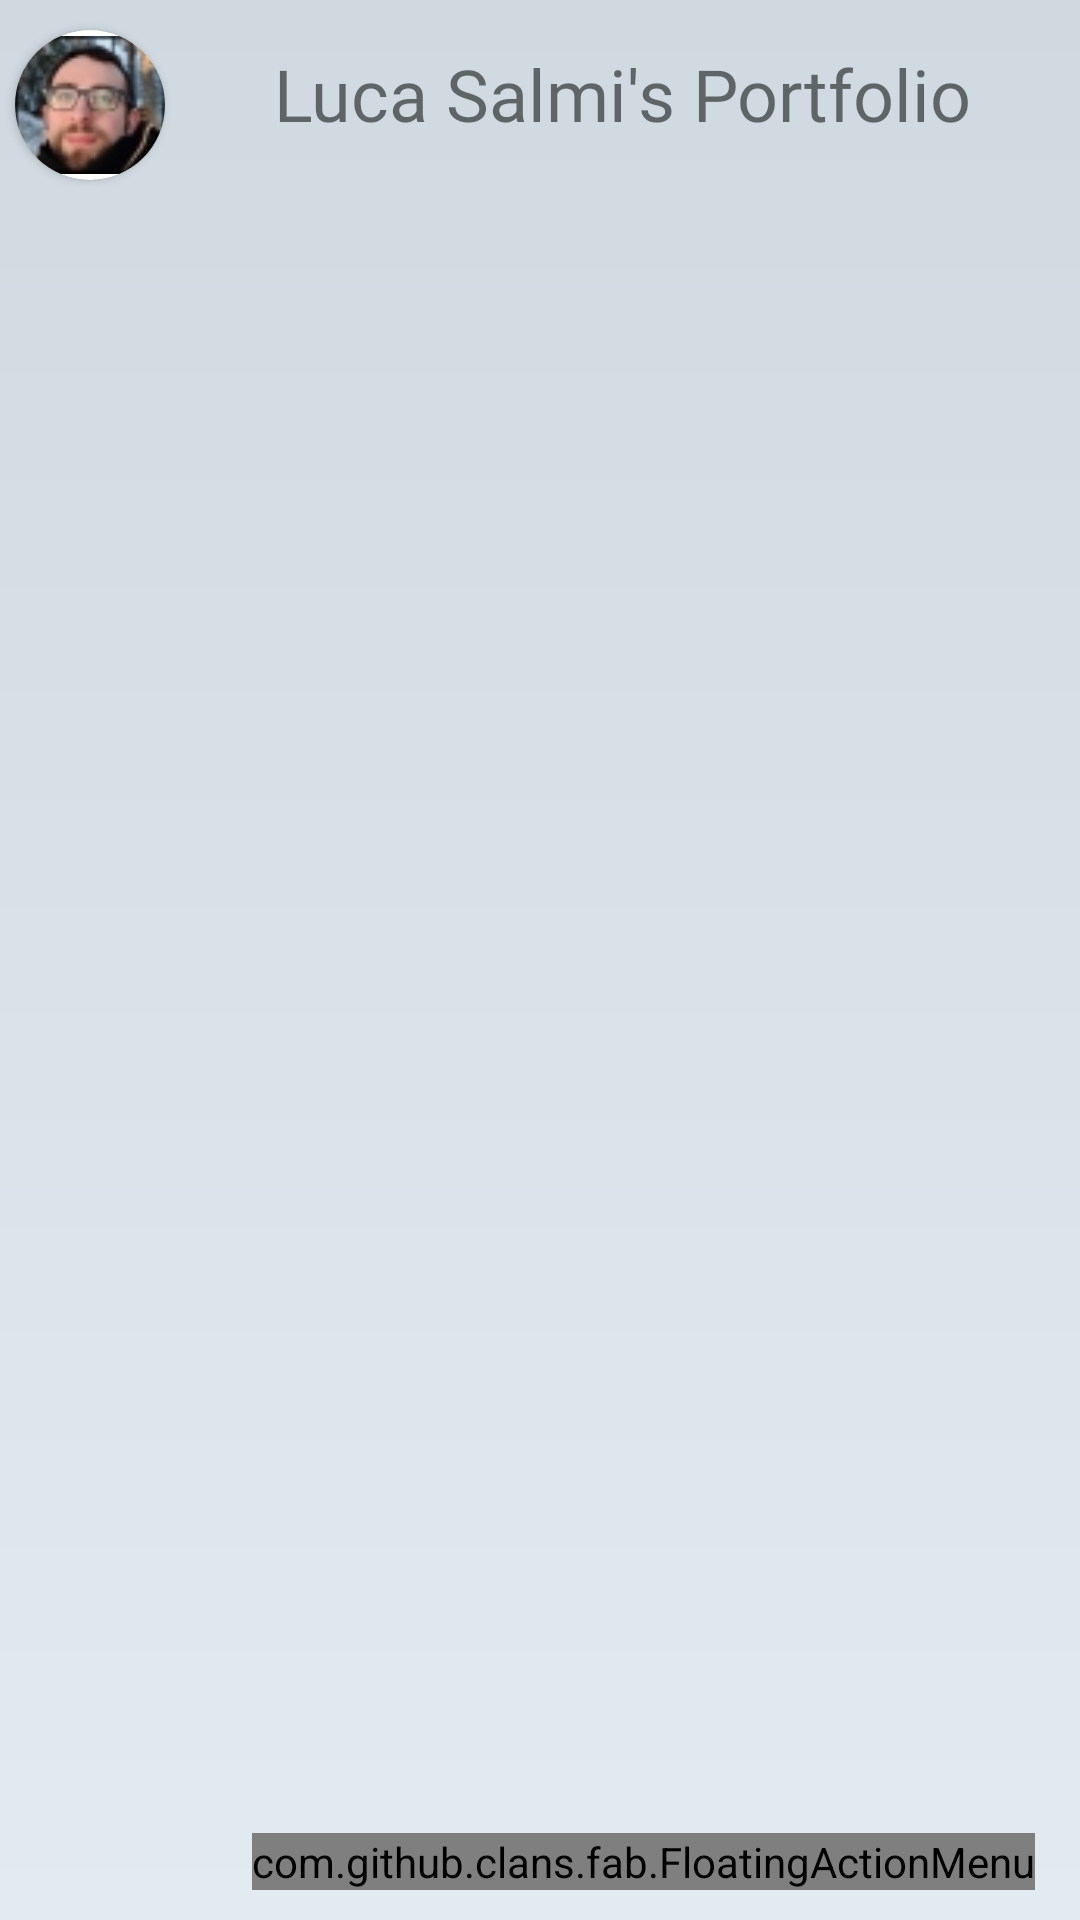

Icon bounding boxes for this 1080w x 1920h phone screenshot, format detection(x1, y1, x2, y2):
photo resized: detection(15, 30, 165, 180)
